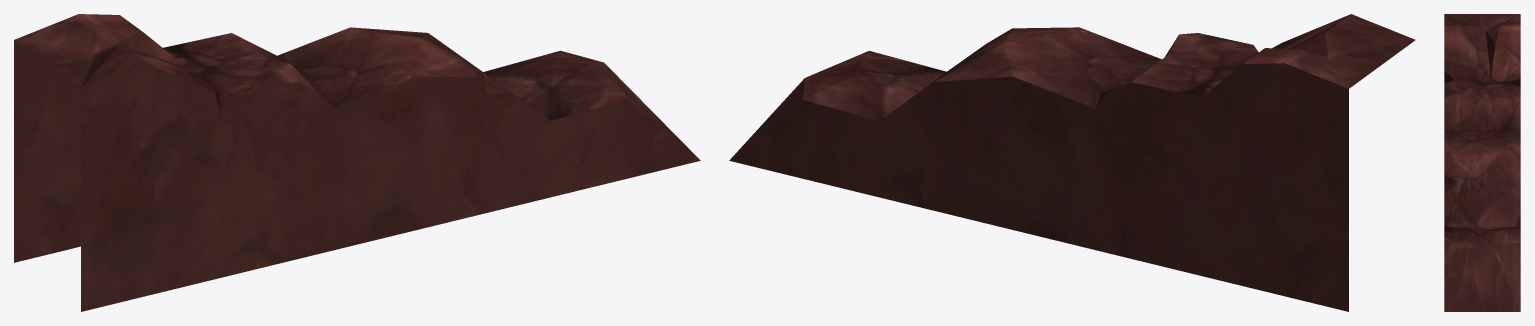
The model's file is lava_broken_straight_03.fbx.
3 views of the same model, side by side, from view 1: azimuth 30°, elevation 25°; view 2: azimuth 150°, elevation 25°; view 3: azimuth 270°, elevation 25° (orthographic). The views are drawn at different scales.
Parts seen in each view (by area): view 1: lava_broken_straight_03-0; view 2: lava_broken_straight_03-0; view 3: lava_broken_straight_03-0.
Part boxes in pixels (x1=…): lava_broken_straight_03-0: x1=14, y1=14, x2=700, y2=311; lava_broken_straight_03-0: x1=729, y1=14, x2=1415, y2=311; lava_broken_straight_03-0: x1=1444, y1=14, x2=1520, y2=311.
Size of the model in its own units: 4 by 1.44 by 0.75.
